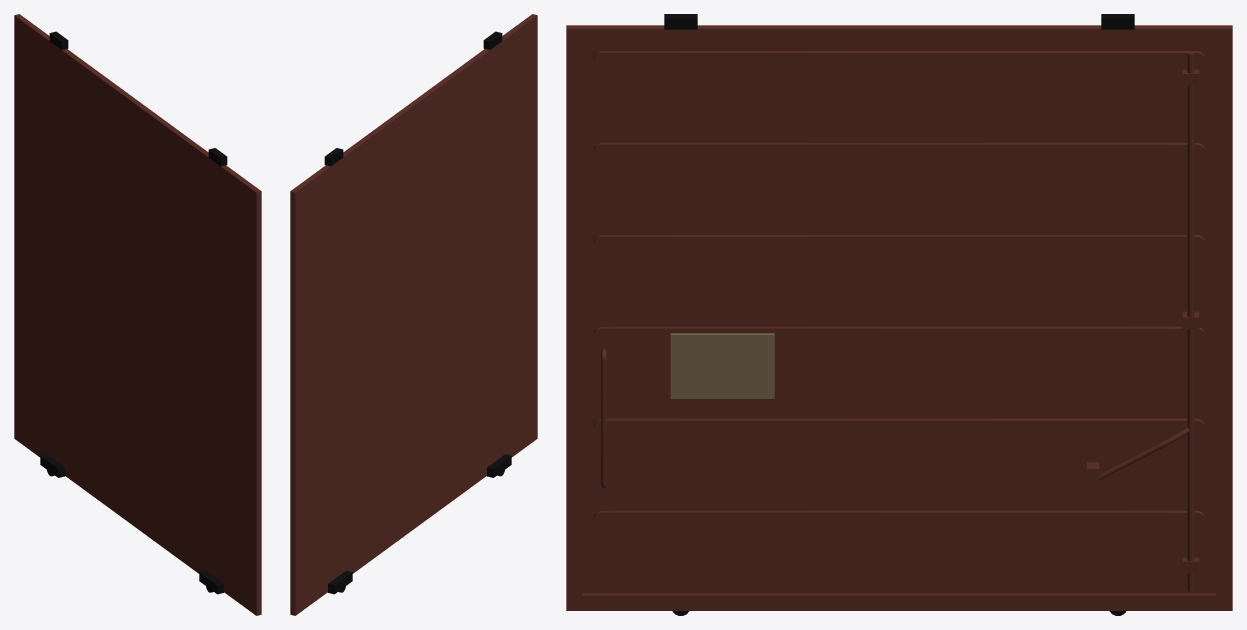
Rendered from door_csx.glb.
The picture shows the model from 3 angles, left to right: view 1: azimuth 30°, elevation 25°; view 2: azimuth 150°, elevation 25°; view 3: azimuth 270°, elevation 25°; orthographic projection. The views are drawn at different scales.
Visible parts, largest first — view 1: Door, Dark; view 2: Door, Dark; view 3: Door, TackBoard, Dark.
Part boxes in pixels (x1,y1,x2,y2): Door: [14, 14, 261, 615]; Dark: [40, 31, 227, 594]; Door: [290, 14, 537, 615]; Dark: [324, 31, 511, 594]; Door: [566, 25, 1232, 610]; TackBoard: [670, 333, 774, 398]; Dark: [664, 14, 1134, 615].
Bounding box in the file's own units: 0.16 × 3.18 × 3.2.
